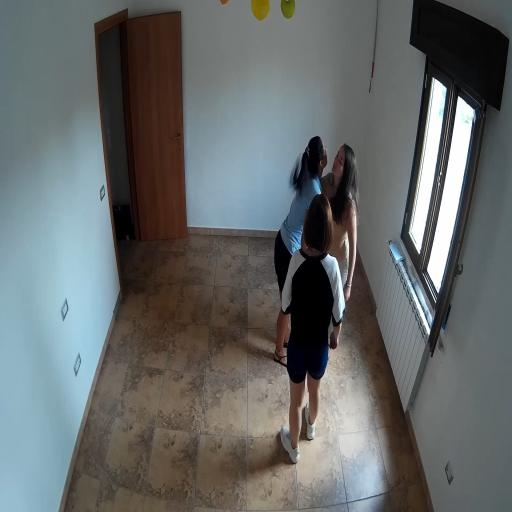nao-violencia: (268, 118, 368, 307)
